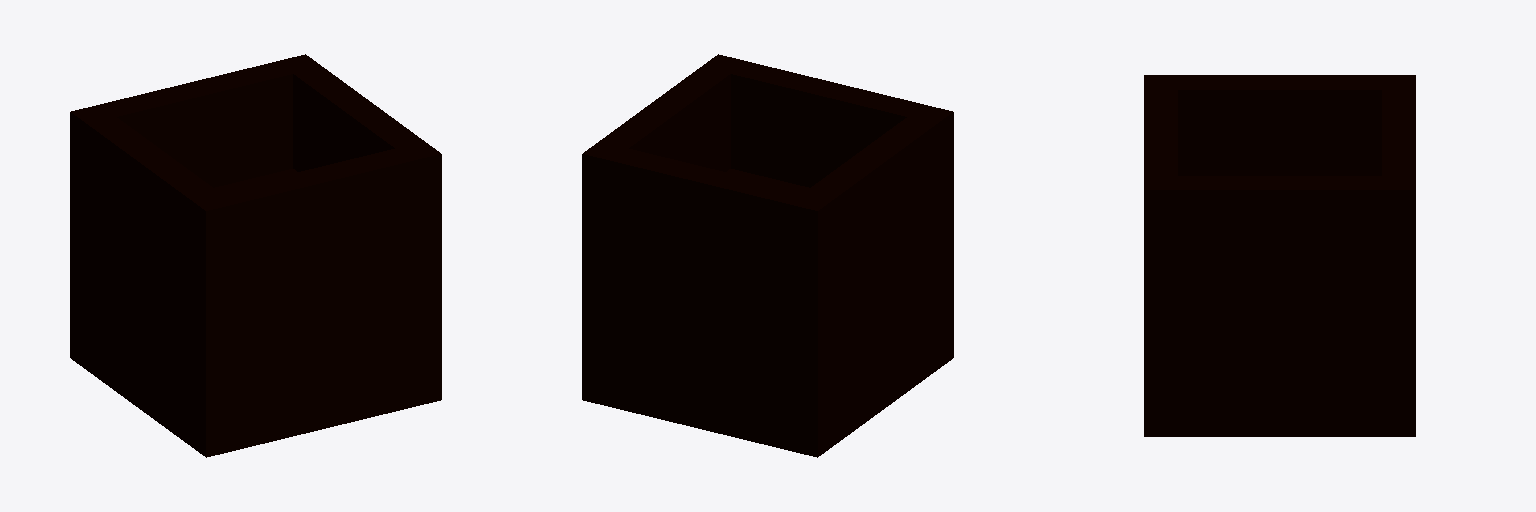
File: Pool.obj
The picture shows the model from 3 angles: view 1: azimuth 30°, elevation 25°; view 2: azimuth 150°, elevation 25°; view 3: azimuth 270°, elevation 25°; orthographic projection.
Parts seen in each view (by area): view 1: Cube_Cube.001; view 2: Cube_Cube.001; view 3: Cube_Cube.001.
Part boxes in pixels (bbox=[...]): Cube_Cube.001: bbox=[70, 54, 441, 457]; Cube_Cube.001: bbox=[582, 54, 953, 457]; Cube_Cube.001: bbox=[1144, 75, 1415, 436].
Bounding box in the file's own units: 2 × 2 × 2.